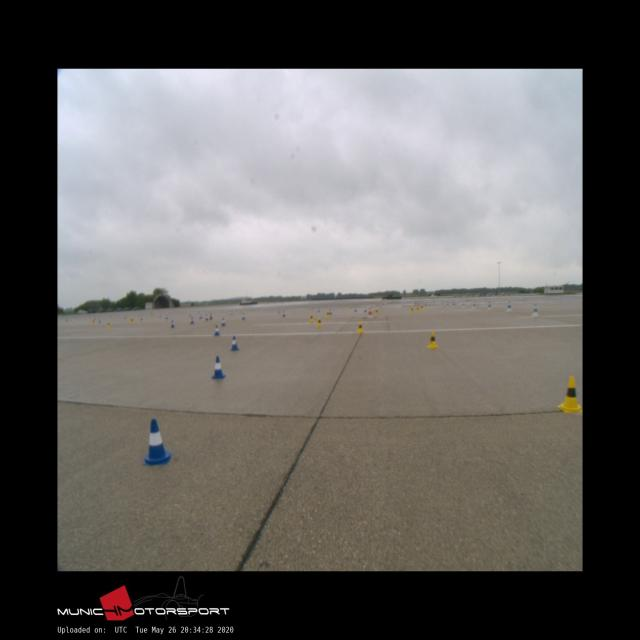blue_cone: (143, 419, 172, 464), (212, 356, 225, 378), (230, 336, 238, 350), (214, 326, 220, 336), (221, 317, 226, 326), (171, 320, 175, 327)
yellow_cone: (558, 376, 582, 412), (427, 332, 438, 347), (357, 321, 363, 332), (317, 317, 322, 326), (309, 314, 314, 322)
